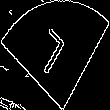L_SW: (35, 26, 75, 84)
